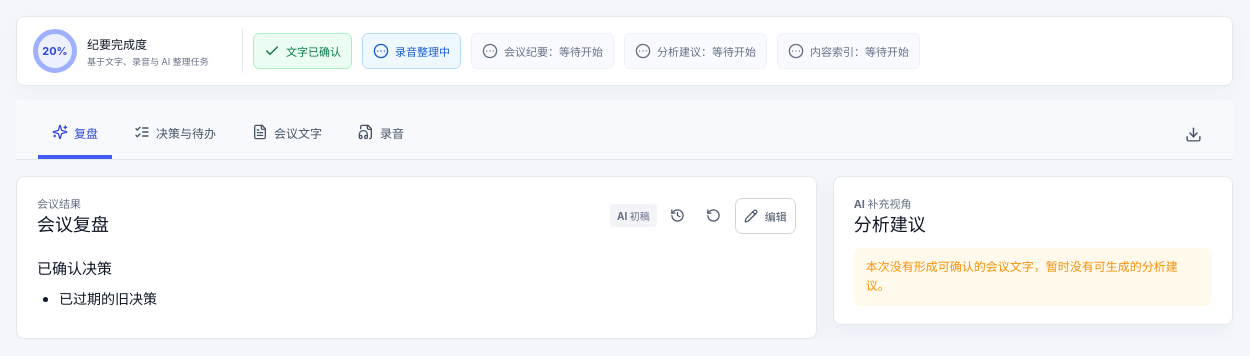
Test: ReviewWorkspace › treats explicit structured empty arrays as authoritative
This screenshot has width=1250, height=356.
Click the tab "决策与待办".
click(175, 133)  # box [120,107,230,159]
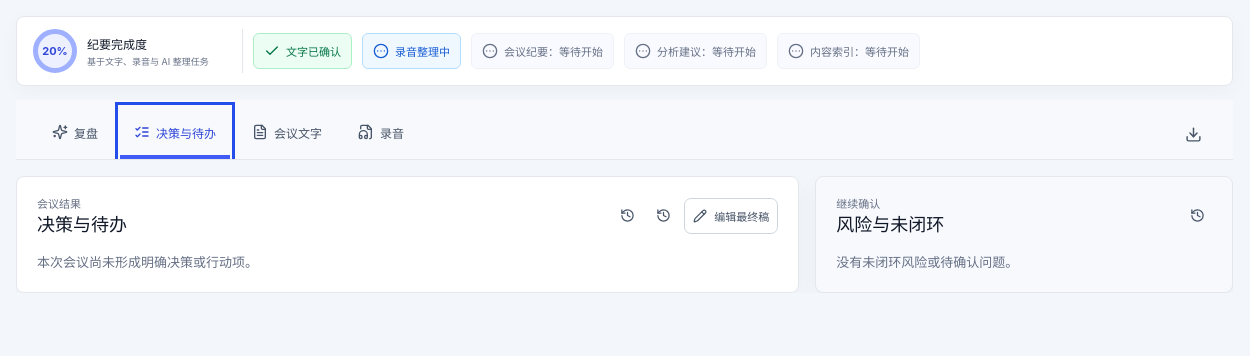
expect the list item "已过期的旧决策" is gone: met
expect the text "本次会议尚未形成明确决策或行动项。" is shown: met, box [37,254,258,270]
expect the text "没有未闭环风险或待确认问题。" is shown: met, box [836,254,1018,270]
